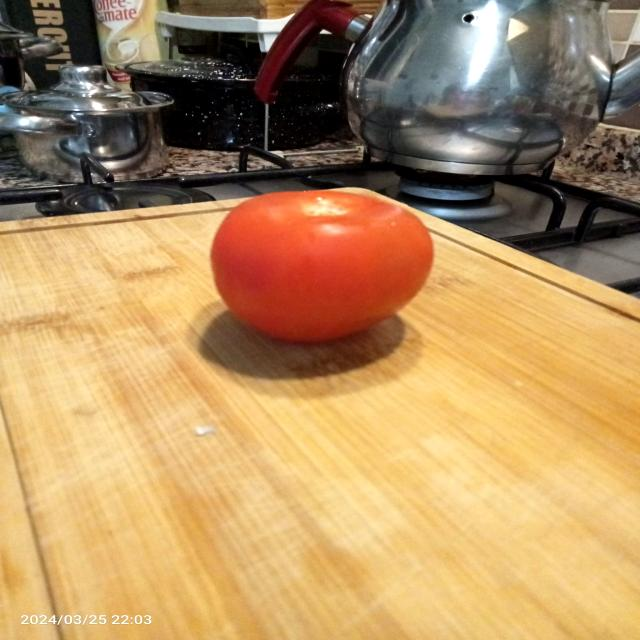tomato: (196, 171, 458, 355)
